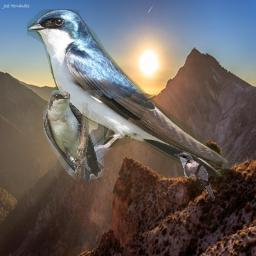Cuckoo: (173, 151, 215, 202)
Swallow: (27, 9, 230, 178), (43, 90, 104, 182)
